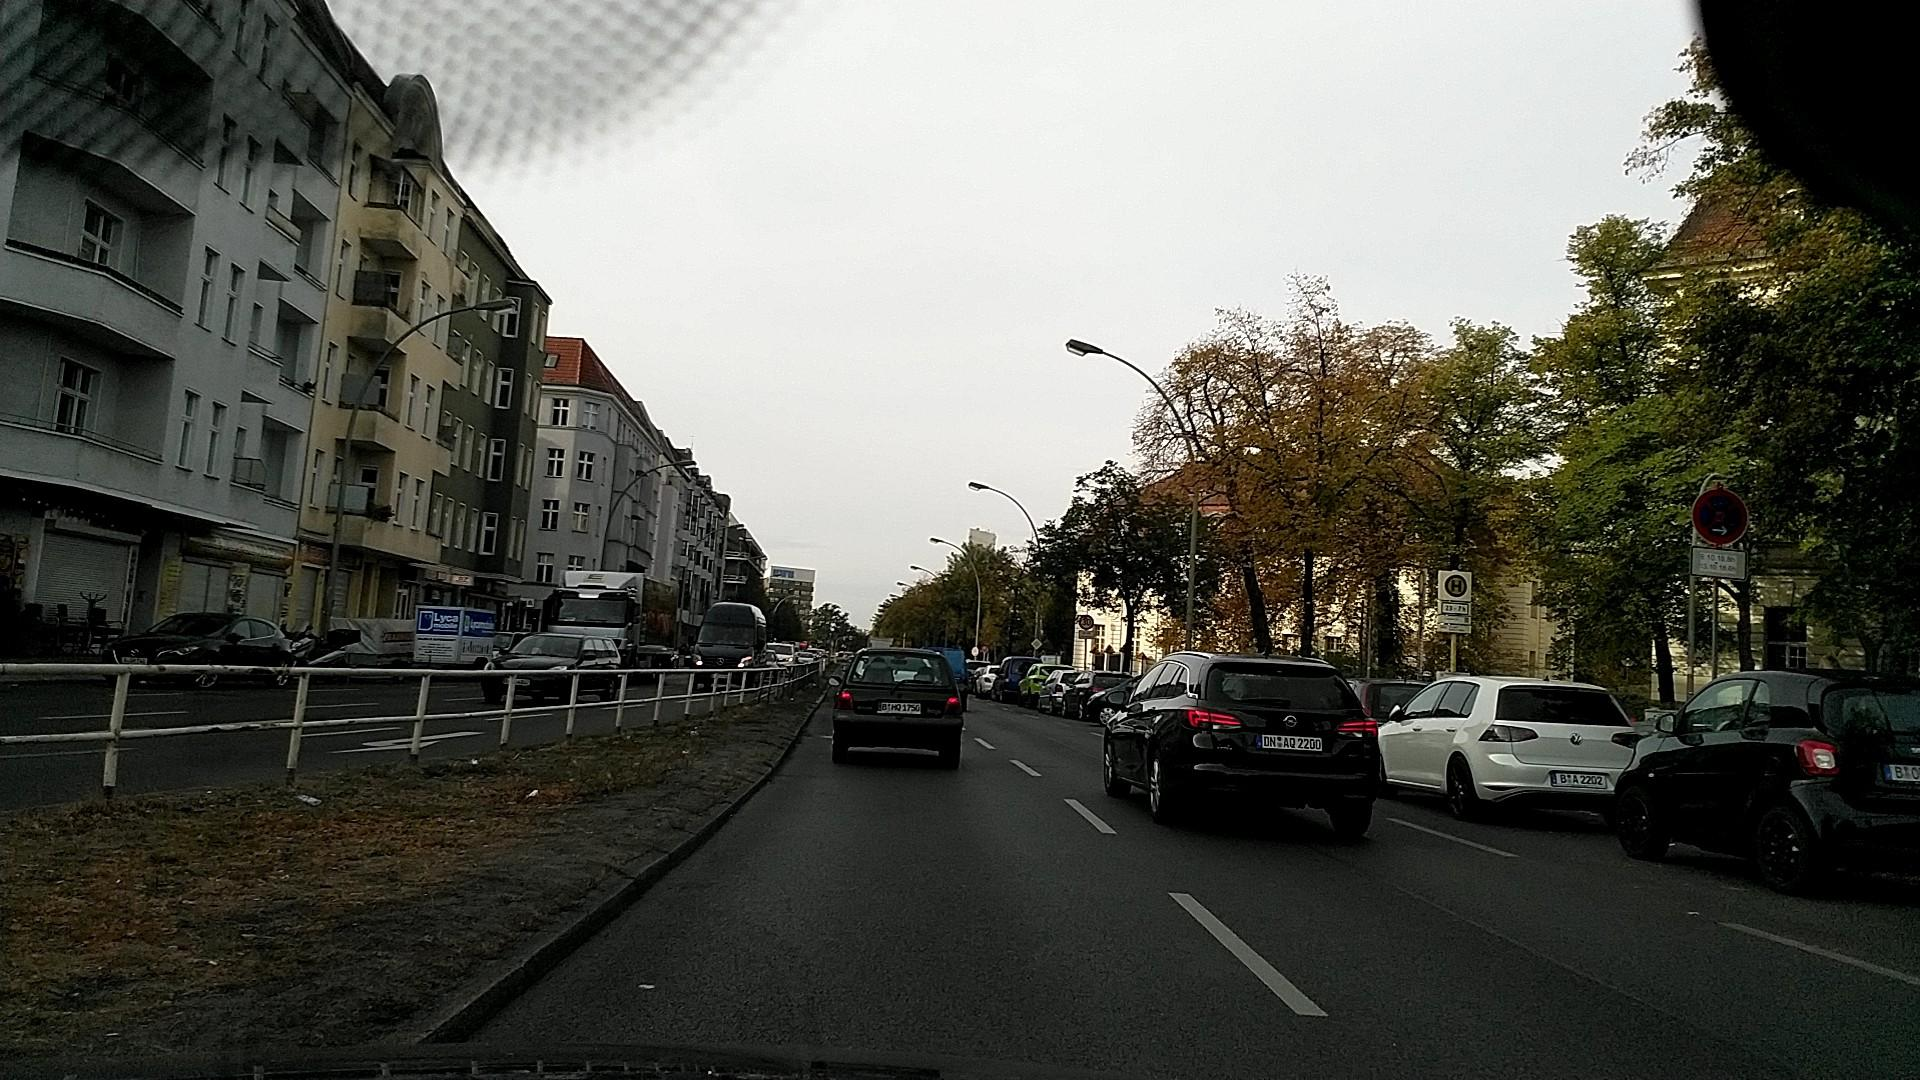Vehicle registration plate: (1256, 733, 1323, 753), (1550, 771, 1607, 789), (875, 701, 922, 715), (121, 656, 147, 665), (503, 678, 530, 686)
